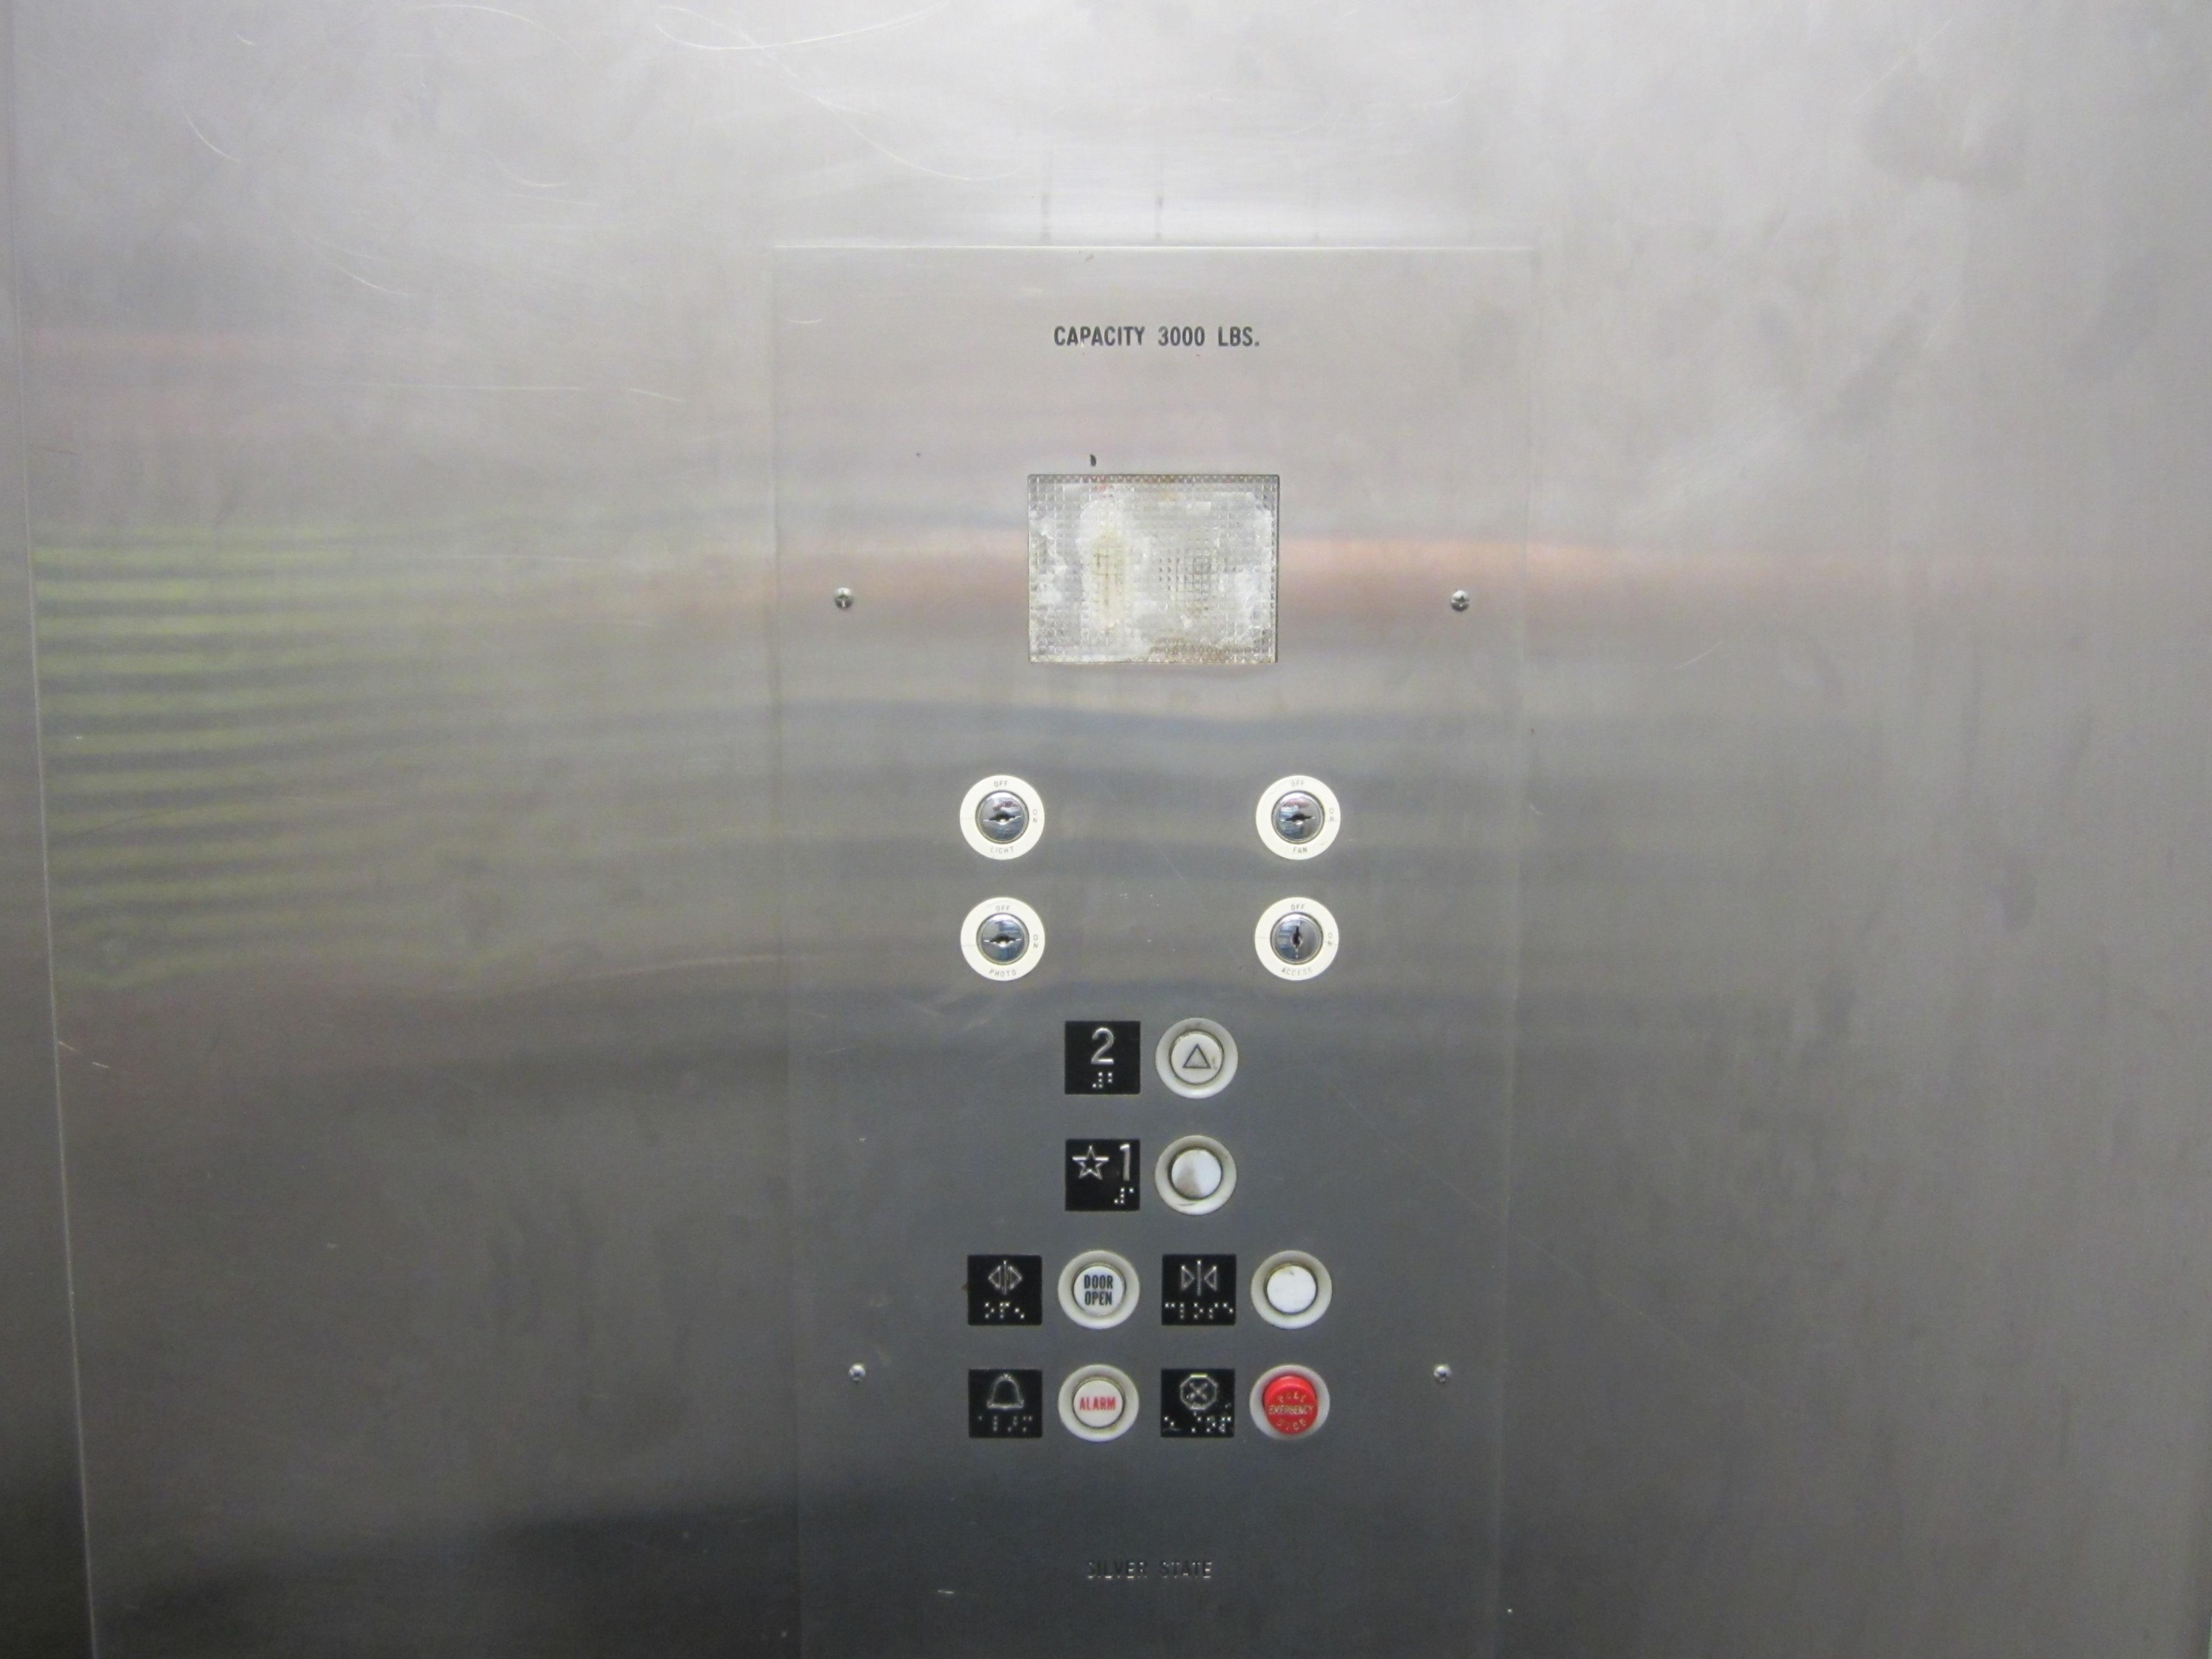2: (1061, 1018, 1144, 1096)
alarm: (963, 1364, 1045, 1441)
close: (1158, 1251, 1238, 1330)
empty: (1153, 1134, 1237, 1215), (1251, 1249, 1332, 1328)
keyhole: (960, 896, 1045, 981), (1254, 896, 1339, 981), (961, 774, 1045, 859), (1256, 774, 1339, 859)
open: (965, 1251, 1045, 1330)
s1: (1061, 1136, 1143, 1213)
stop: (1157, 1364, 1237, 1441)
text: (1055, 1363, 1141, 1443), (1057, 1249, 1139, 1328)
text_emergency: (1249, 1364, 1329, 1441)
up: (1157, 1018, 1237, 1098)
